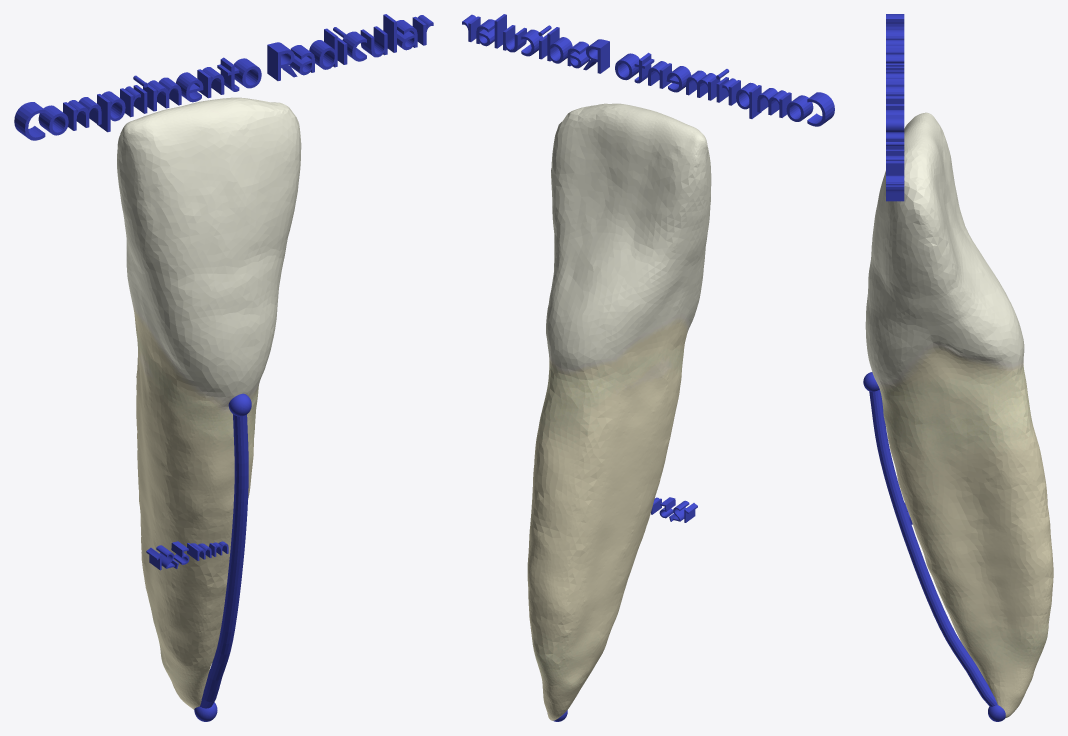
The model's file is 32 - Comprimento Radicular.glb.
3 renders of one model, left to right at view 1: azimuth 30°, elevation 25°; view 2: azimuth 150°, elevation 25°; view 3: azimuth 270°, elevation 25°, orthographic. The views are drawn at different scales.
Parts seen in each view (by area): view 1: 3MFMeshParent_0, 3MFMeshParent_2, 3MFMeshParent_3, 3MFMeshParent_1; view 2: 3MFMeshParent_0, 3MFMeshParent_2, 3MFMeshParent_1; view 3: 3MFMeshParent_0, 3MFMeshParent_3, 3MFMeshParent_2.
Part boxes in pixels (<box>): 3MFMeshParent_0: <box>117,97,301,709</box>; 3MFMeshParent_2: <box>14,14,433,140</box>; 3MFMeshParent_3: <box>200,414,248,708</box>; 3MFMeshParent_1: <box>146,541,228,570</box>; 3MFMeshParent_0: <box>527,103,711,720</box>; 3MFMeshParent_2: <box>462,14,834,126</box>; 3MFMeshParent_1: <box>651,497,697,522</box>; 3MFMeshParent_0: <box>865,112,1053,718</box>; 3MFMeshParent_3: <box>869,389,997,706</box>; 3MFMeshParent_2: <box>886,14,904,201</box>.
Size of the model in its own units: 0.3322 by 0.5564 by 0.1572.
2 materials, 1 textured.
